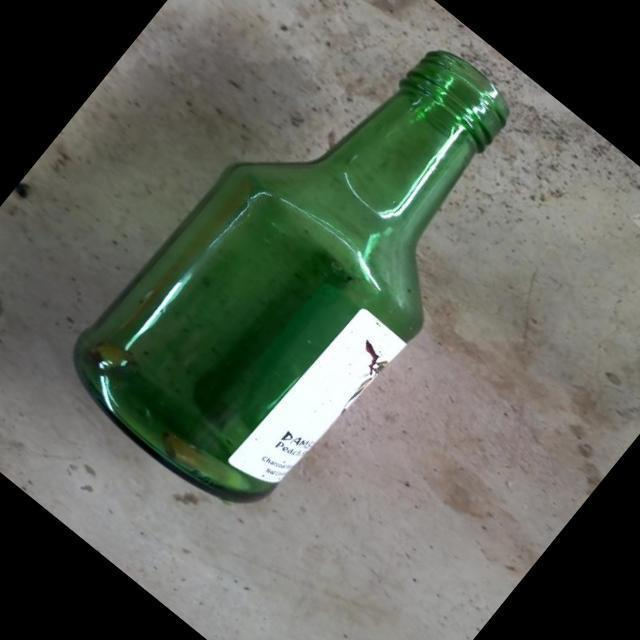Glass: (73, 50, 511, 503)
